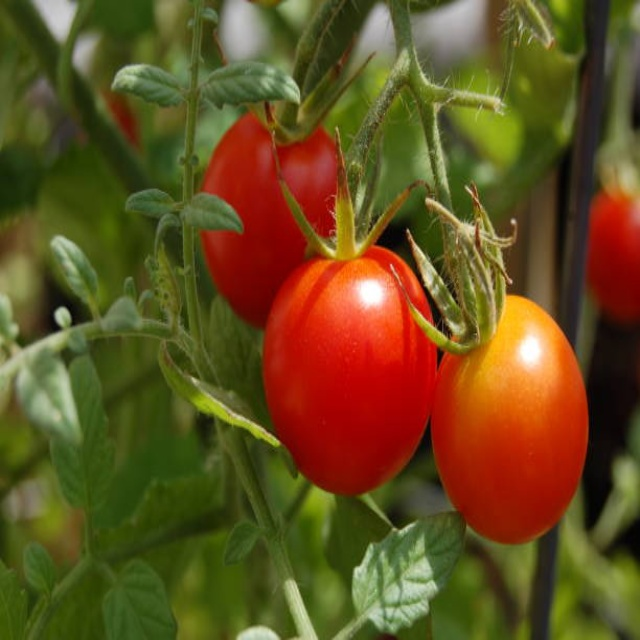tomato: (276, 247, 433, 494), (441, 288, 586, 544), (195, 99, 351, 332)
